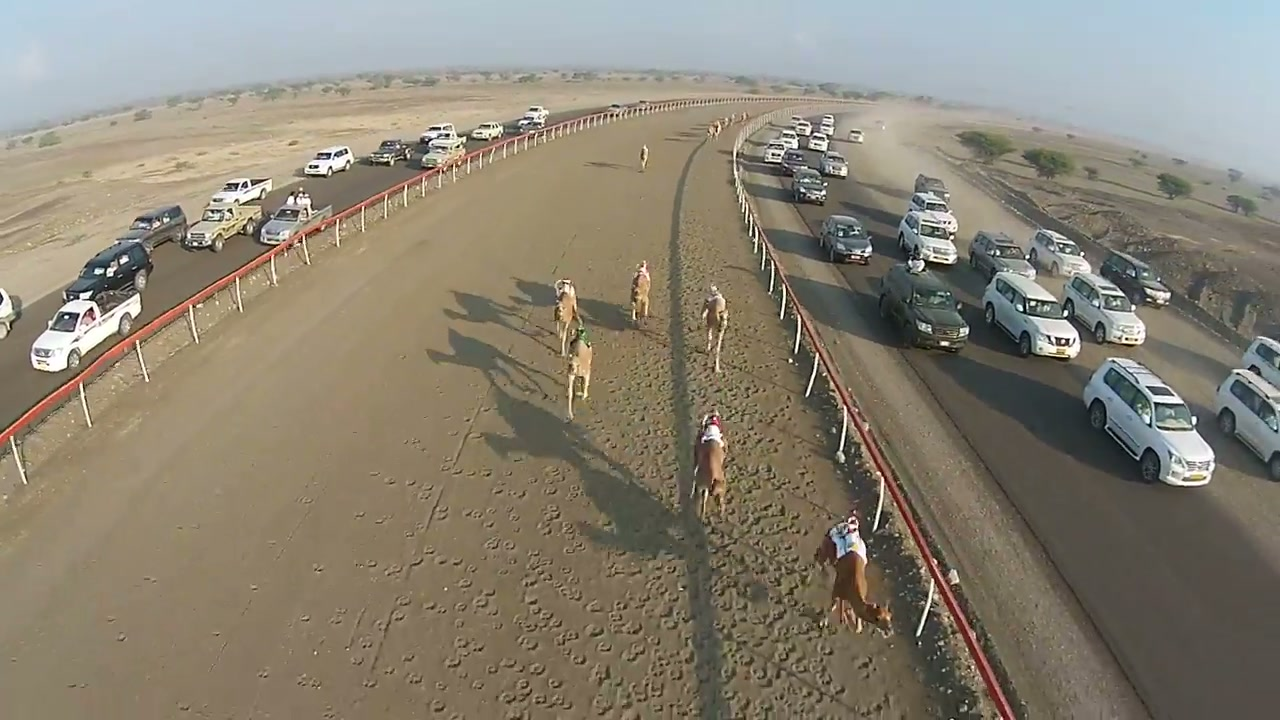animal_foot_print: (306, 324, 859, 719), (726, 338, 811, 529)
